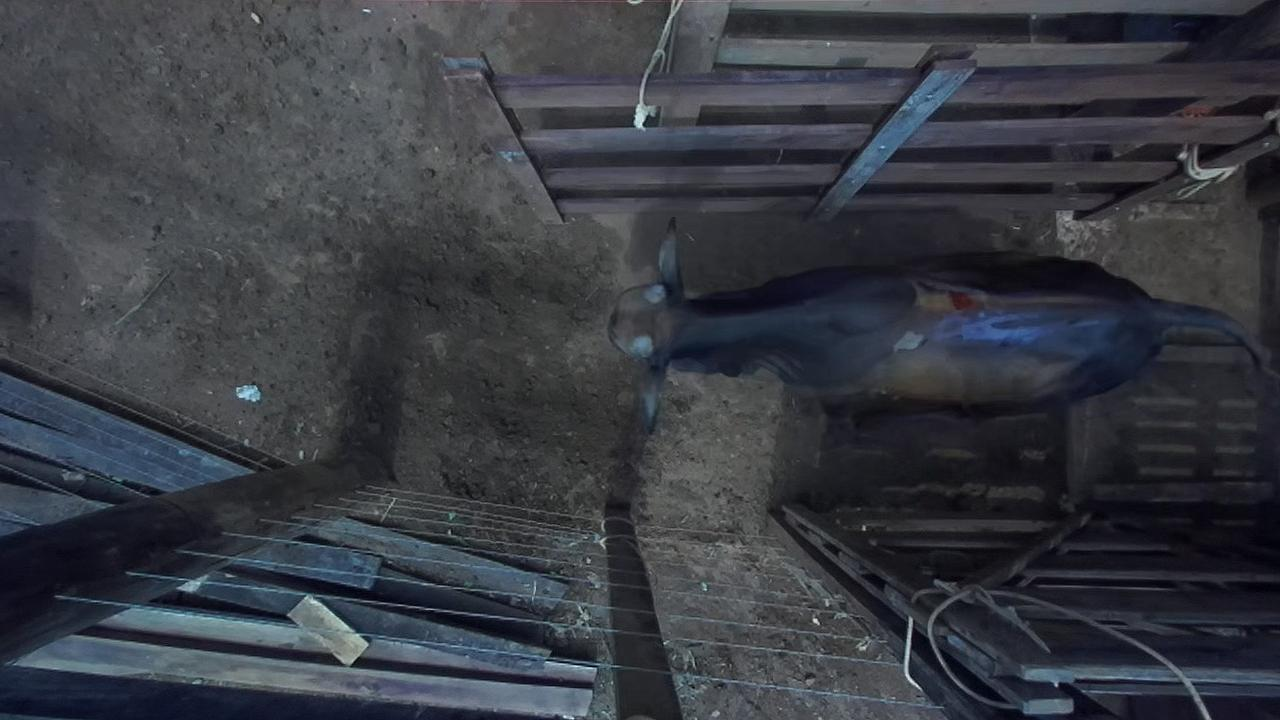cattle: (604, 214, 1266, 436)
